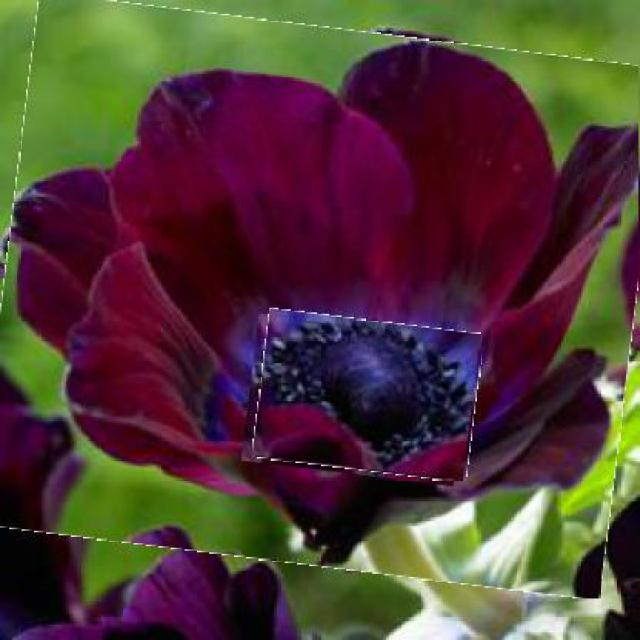Flower: (0, 9, 638, 581), (257, 314, 480, 475)
